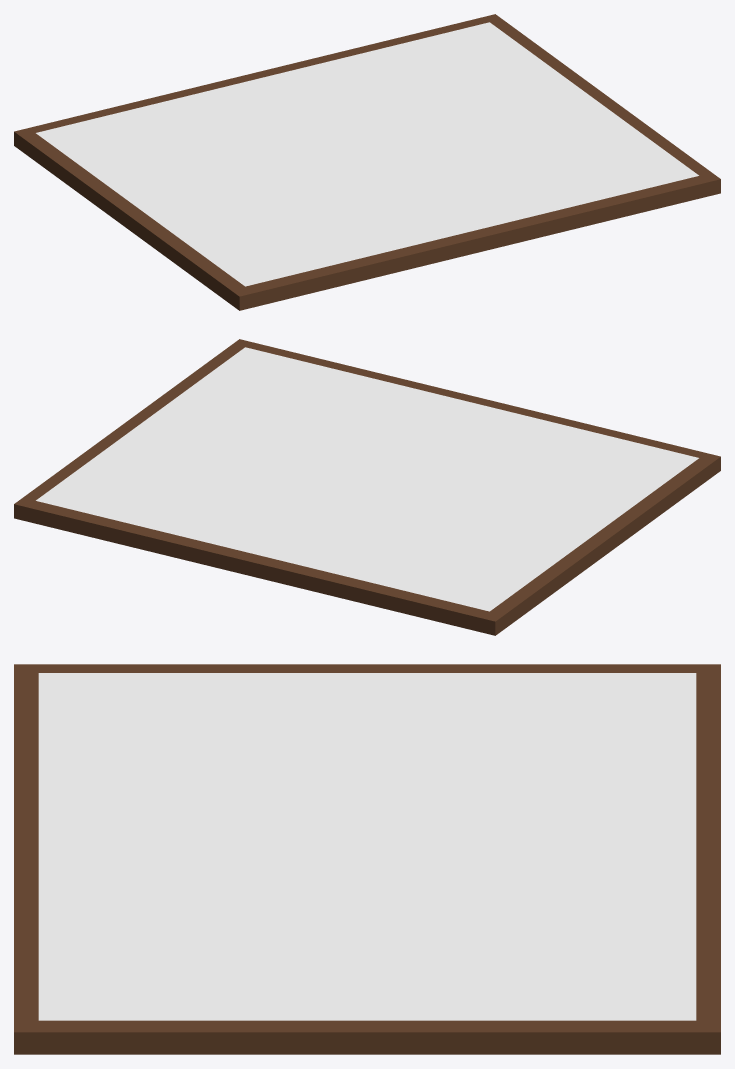
Rendered from SM_PaintingPlot.fbx.
3 renders of one model, top to bottom at view 1: azimuth 30°, elevation 25°; view 2: azimuth 150°, elevation 25°; view 3: azimuth 270°, elevation 25°, orthographic. The views are drawn at different scales.
Parts seen in each view (by area): view 1: Painting, Frame; view 2: Painting, Frame; view 3: Painting, Frame.
Part boxes in pixels (x1,y1,x2,y2): Painting: (36,22,698,286); Frame: (14,14,720,310); Painting: (36,347,698,611); Frame: (14,339,720,635); Painting: (38,673,696,1020); Frame: (14,664,720,1054).
Size of the model in its own units: 1.06 by 0.032 by 0.86.
